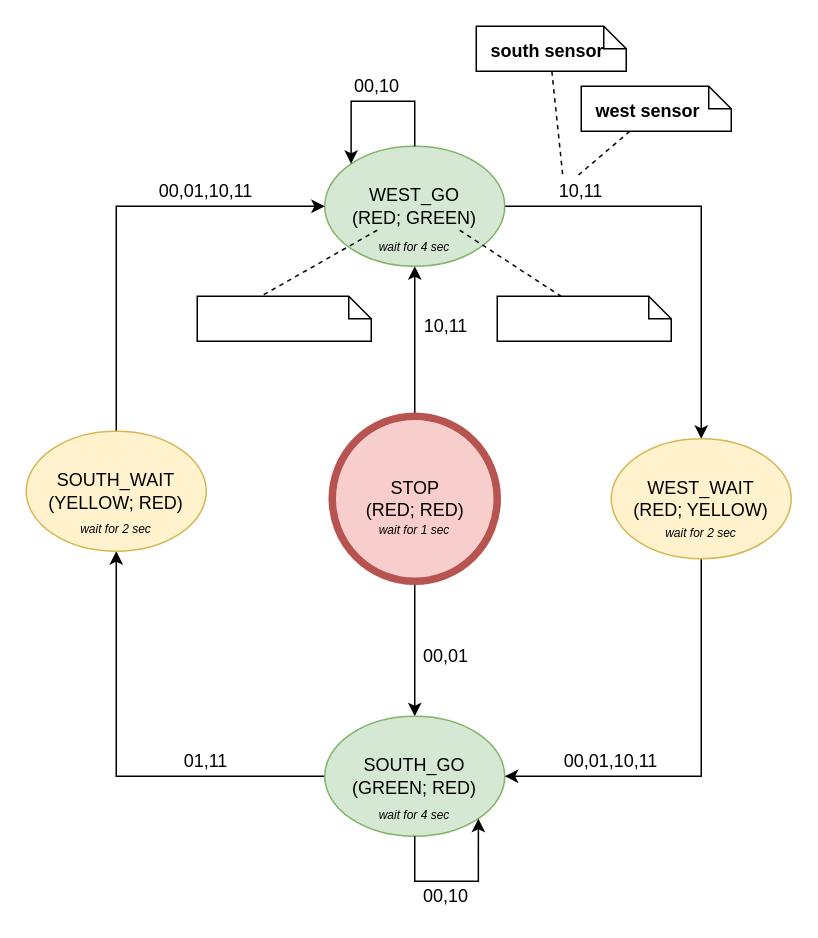
Some shapes in this 818 by 938 pixel diagram are drawn without their labels. Each missing label, with the centre of its shape:
"south semaphor" belongs at (x=283, y=318).
"west semaphor" belongs at (x=583, y=318).
